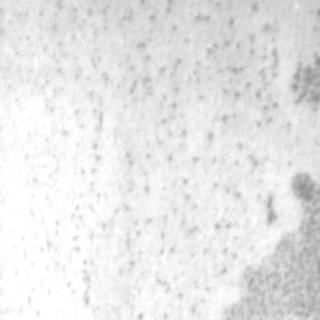pitted_surface: (3, 0, 316, 318)
